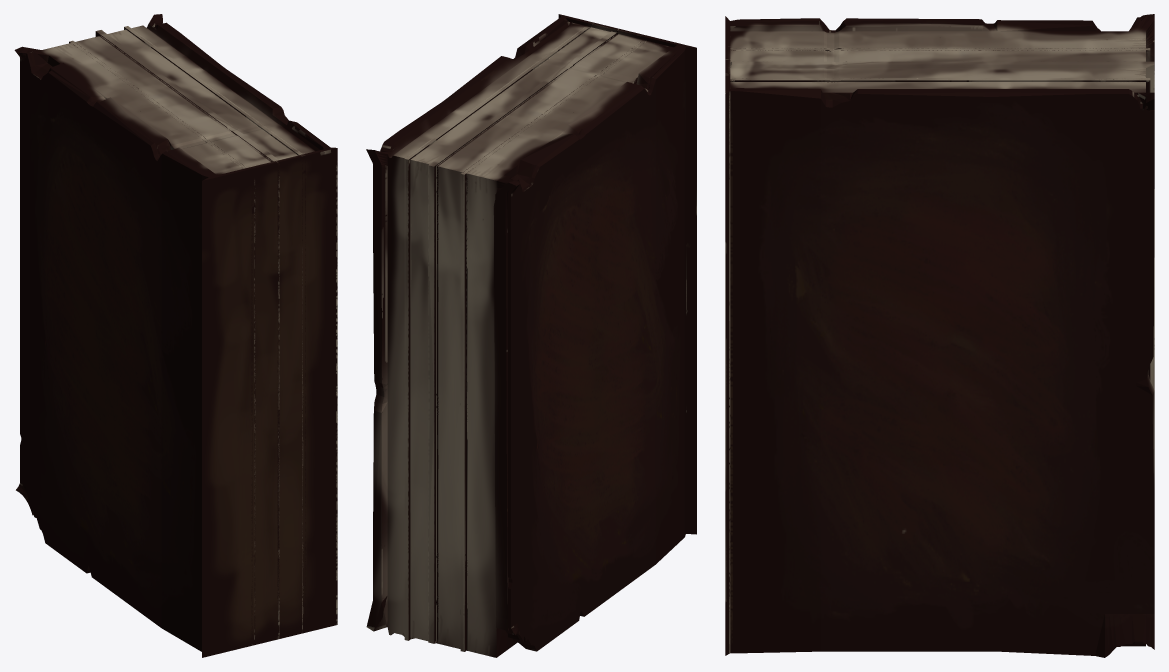
File: ThickBurnedBook.dae
3 renders of one model, left to right at view 1: azimuth 30°, elevation 25°; view 2: azimuth 150°, elevation 25°; view 3: azimuth 270°, elevation 25°, orthographic. The views are drawn at different scales.
Parts seen in each view (by area): view 1: Book; view 2: Book; view 3: Book.
Boxes of the visible parts, box(x1,y1,x2,y2) form: Book: box(14, 14, 337, 657); Book: box(366, 14, 696, 657); Book: box(725, 14, 1154, 657).
Size of the model in its own units: 88.28 by 273 by 188.
1 material, 1 textured.
